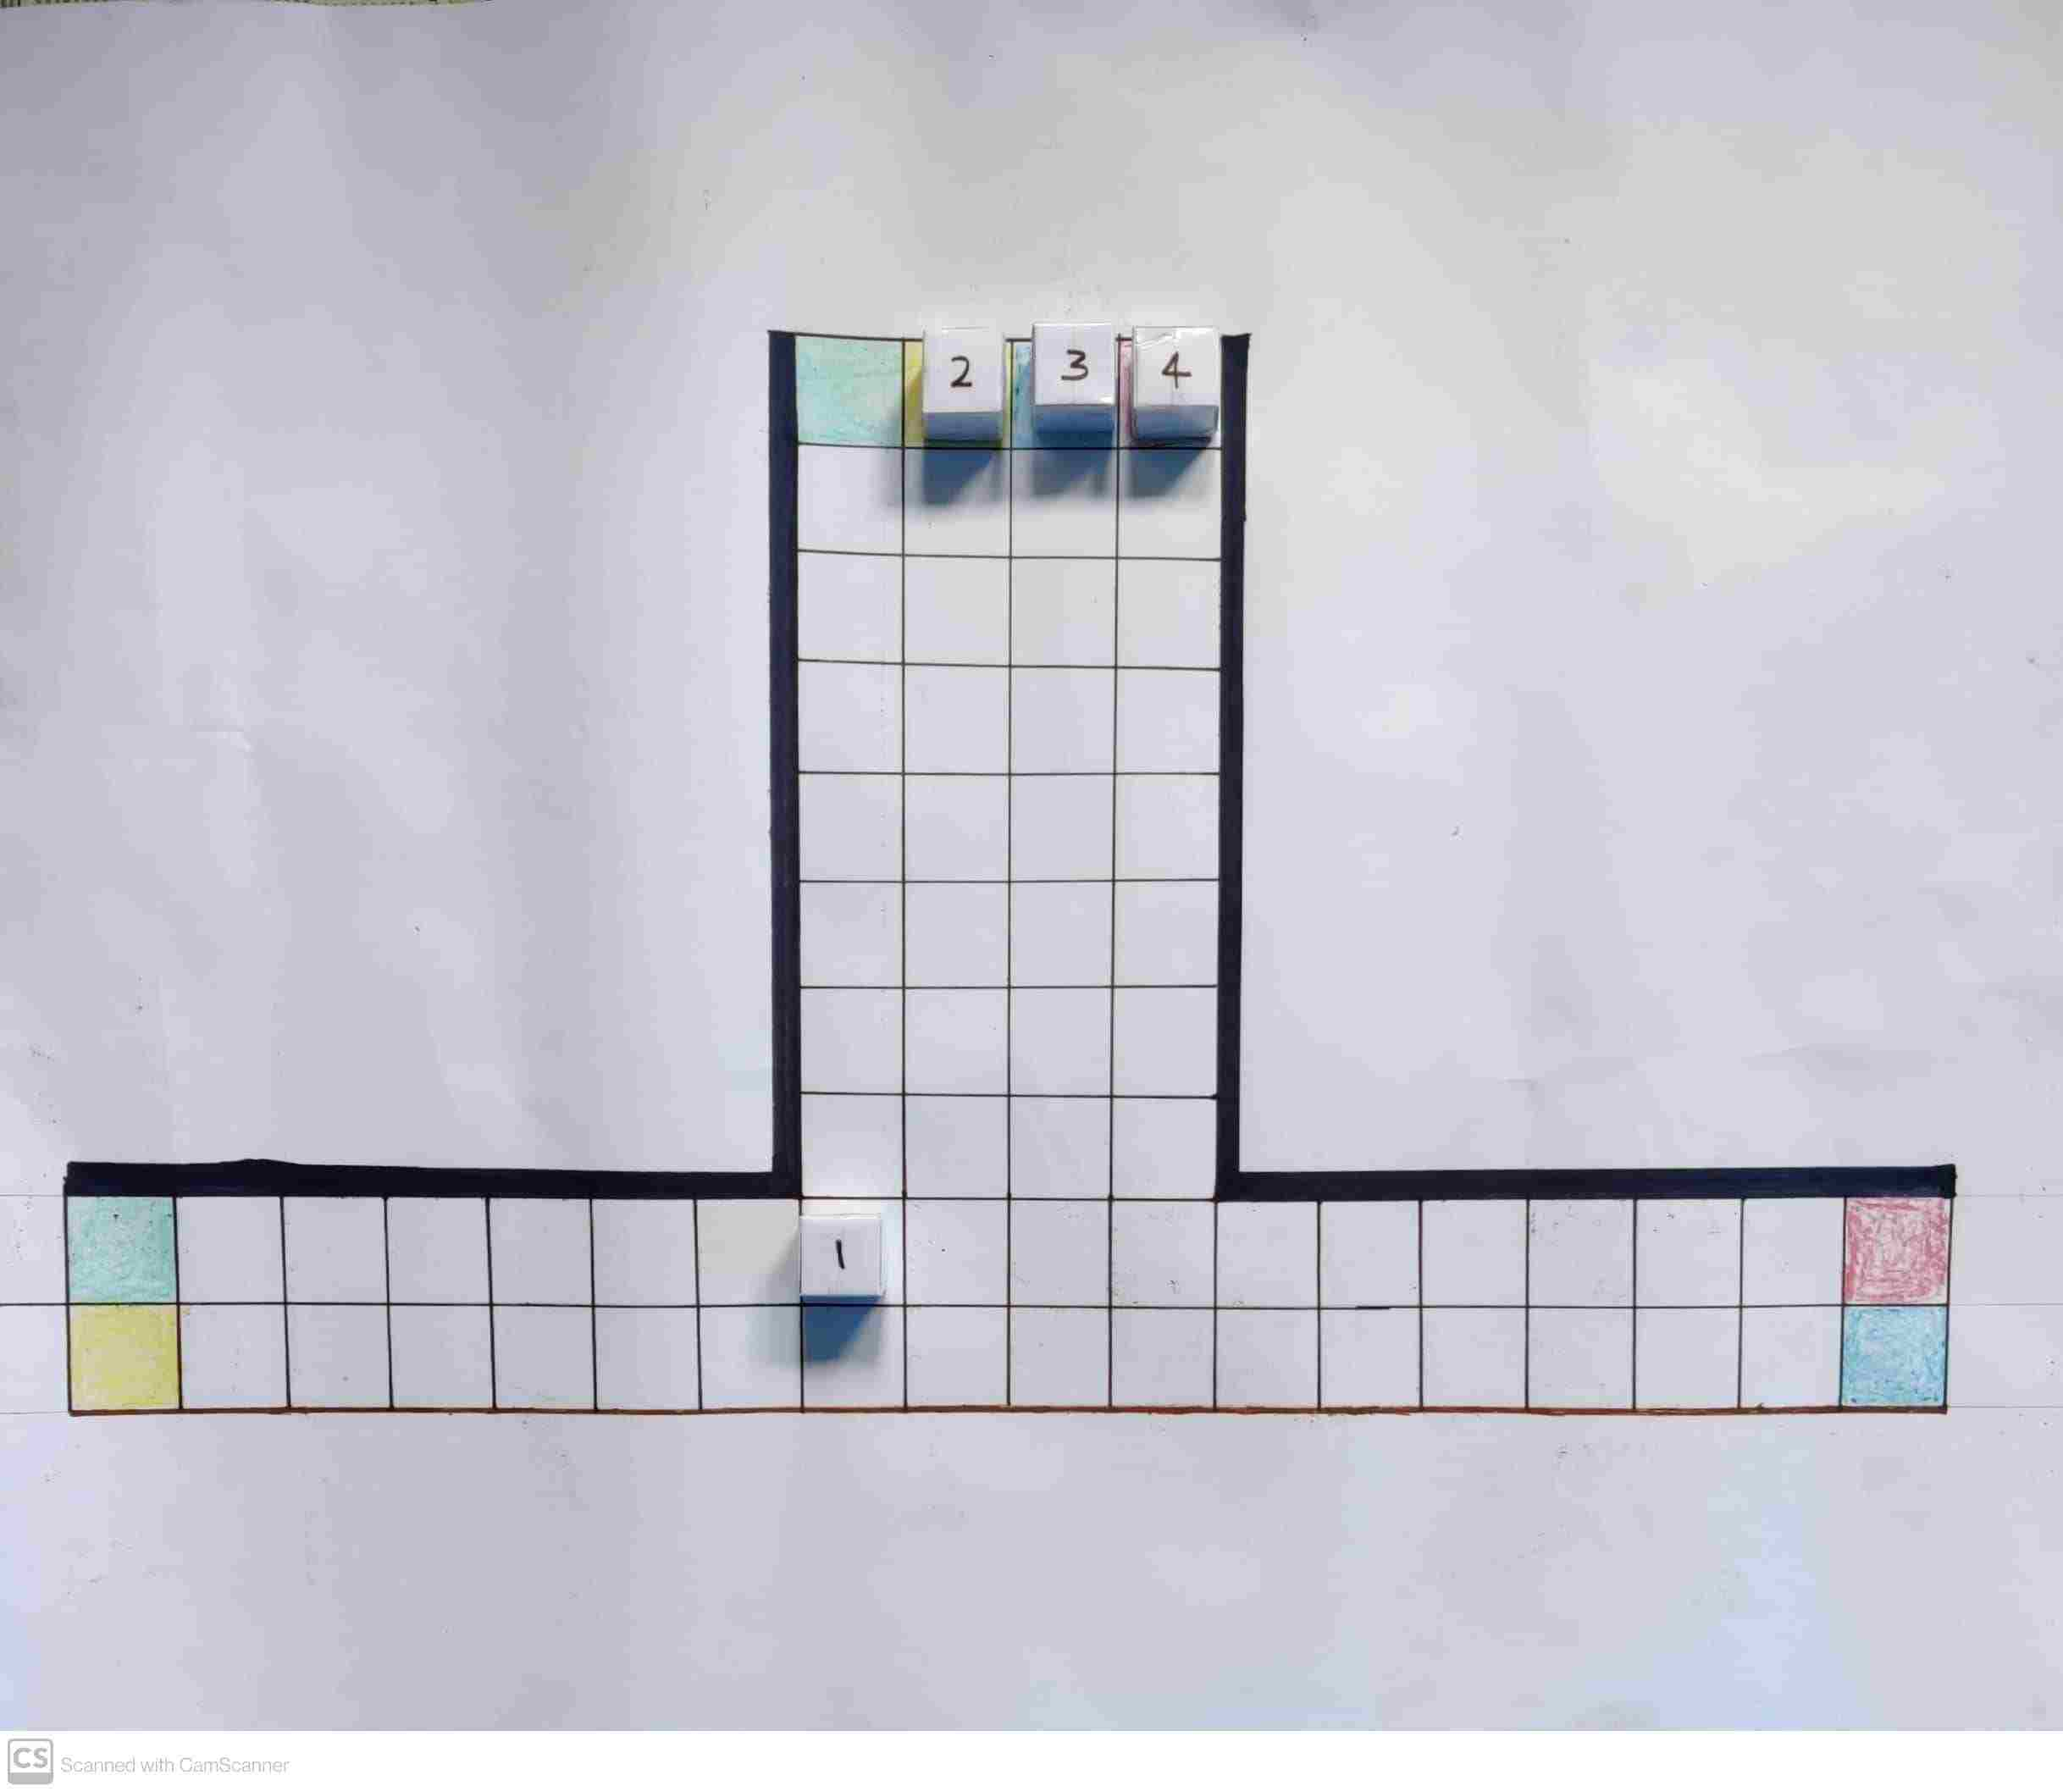arena: (60, 326, 1959, 1413)
bot: (1035, 326, 1121, 410), (924, 330, 1007, 417), (1135, 326, 1223, 409), (802, 1215, 879, 1299)
